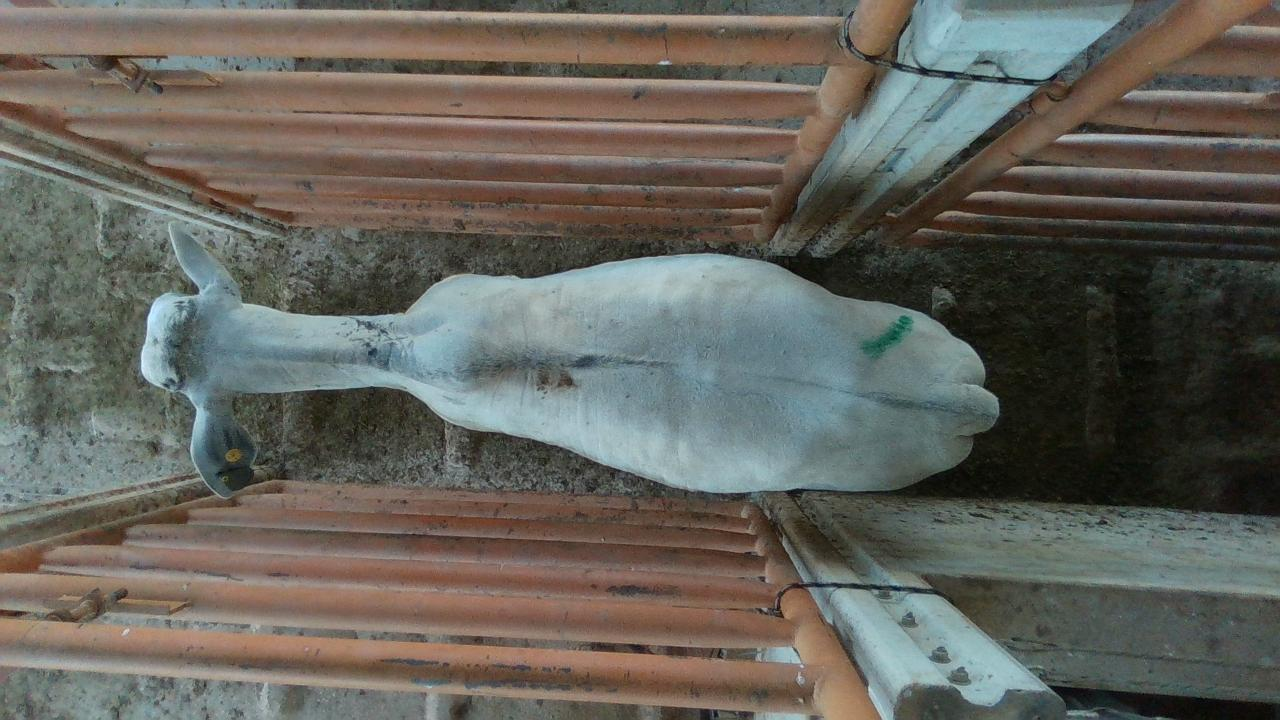cattle: (138, 220, 1001, 499)
